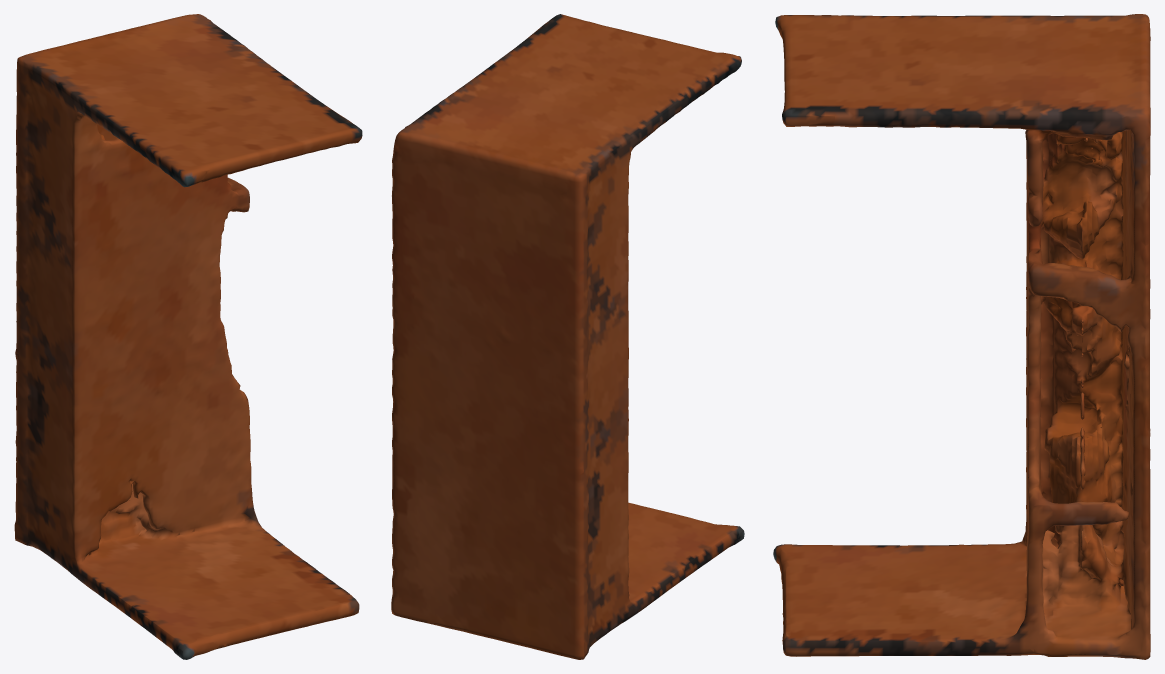
File: This wooden office desk has a bare back, a small r.glb
3 renders of one model, left to right at view 1: azimuth 30°, elevation 25°; view 2: azimuth 150°, elevation 25°; view 3: azimuth 270°, elevation 25°, orthographic. The views are drawn at different scales.
Visible parts, largest first — view 1: This wooden office desk has a bare back, a small r; view 2: This wooden office desk has a bare back, a small r; view 3: This wooden office desk has a bare back, a small r.
Part boxes in pixels (bbox=[...]): This wooden office desk has a bare back, a small r: bbox=[14, 14, 362, 659]; This wooden office desk has a bare back, a small r: bbox=[391, 14, 744, 659]; This wooden office desk has a bare back, a small r: bbox=[773, 14, 1150, 659].
Bounding box in the file's own units: 0.4125 × 0.9991 × 0.6251.
